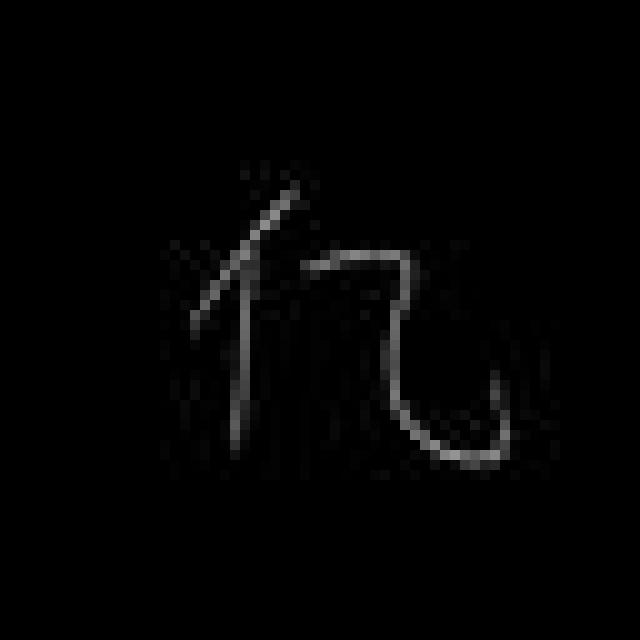100000 -a hundred thousand-: (182, 177, 528, 486)
